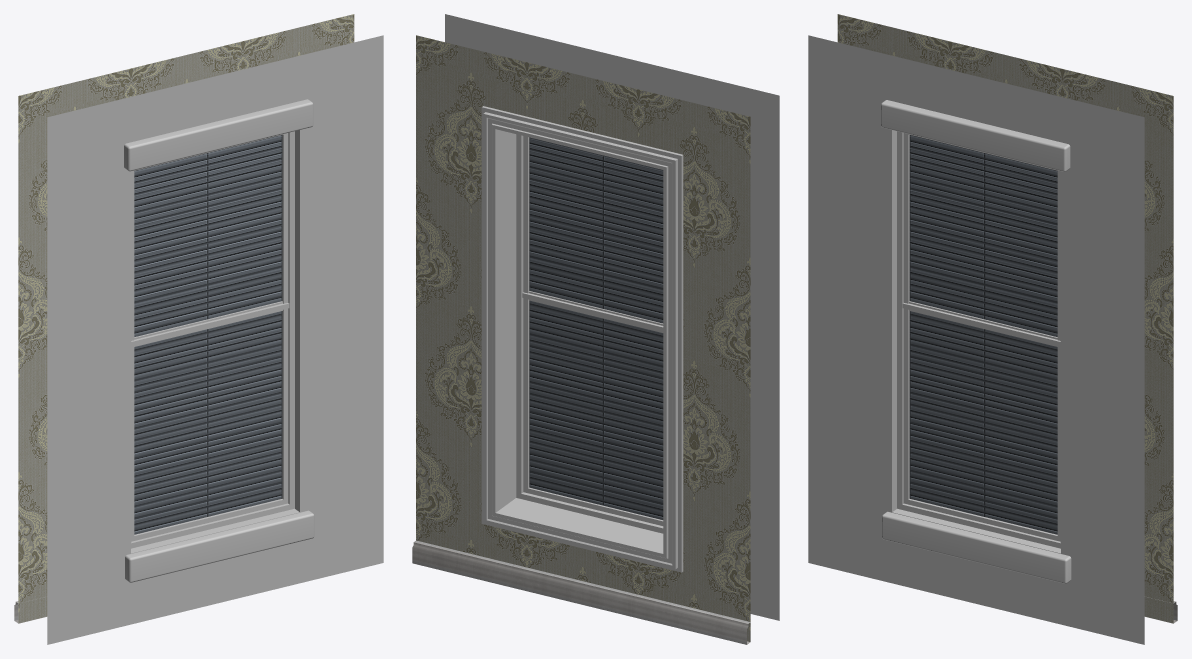
File: House_02_Window_04.fbx
3 views of the same model, side by side, from view 1: azimuth 30°, elevation 25°; view 2: azimuth 150°, elevation 25°; view 3: azimuth 330°, elevation 25° (orthographic).
Visible parts, largest first — view 1: House_02_Window_04_LOD0; view 2: House_02_Window_04_LOD0; view 3: House_02_Window_04_LOD0.
Part boxes in pixels (box(x1,y1,x2,y2)): House_02_Window_04_LOD0: box(14, 14, 383, 644); House_02_Window_04_LOD0: box(412, 14, 779, 644); House_02_Window_04_LOD0: box(808, 14, 1177, 644).
Size of what is drawn, in the model's own units: 200 by 300 by 39.17.
